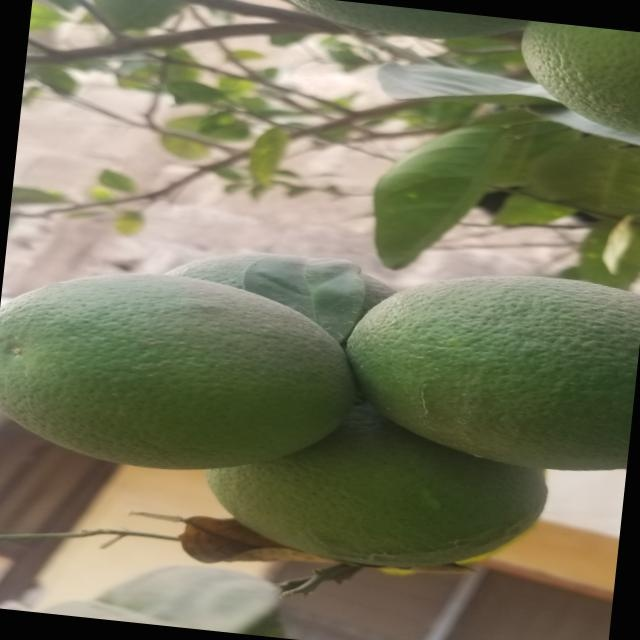agrume: (0, 251, 372, 491), (351, 245, 640, 489), (201, 413, 527, 582), (153, 224, 407, 335), (503, 19, 640, 155), (275, 0, 505, 46)
